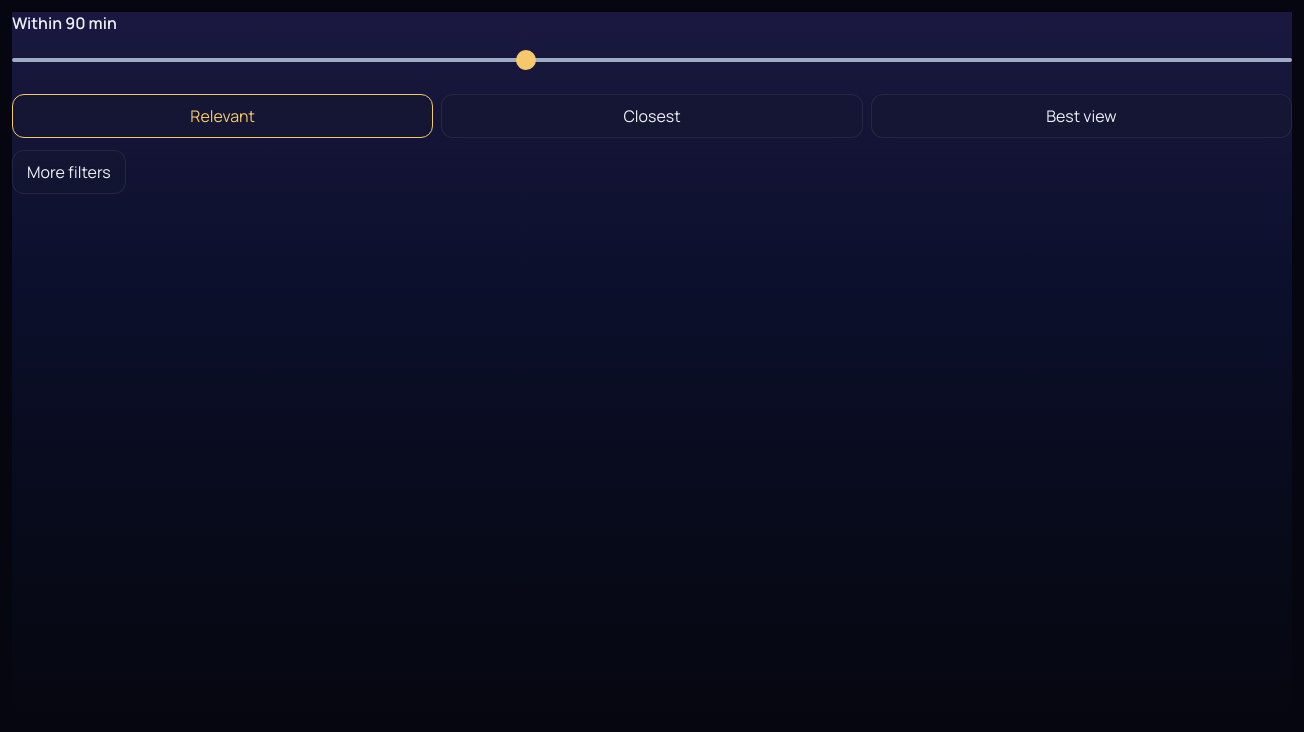
Test: Controls › outside se_mi More filters has only Likely open
Click the button "More filters". click: [69, 172]
box: [12,150,126,194]
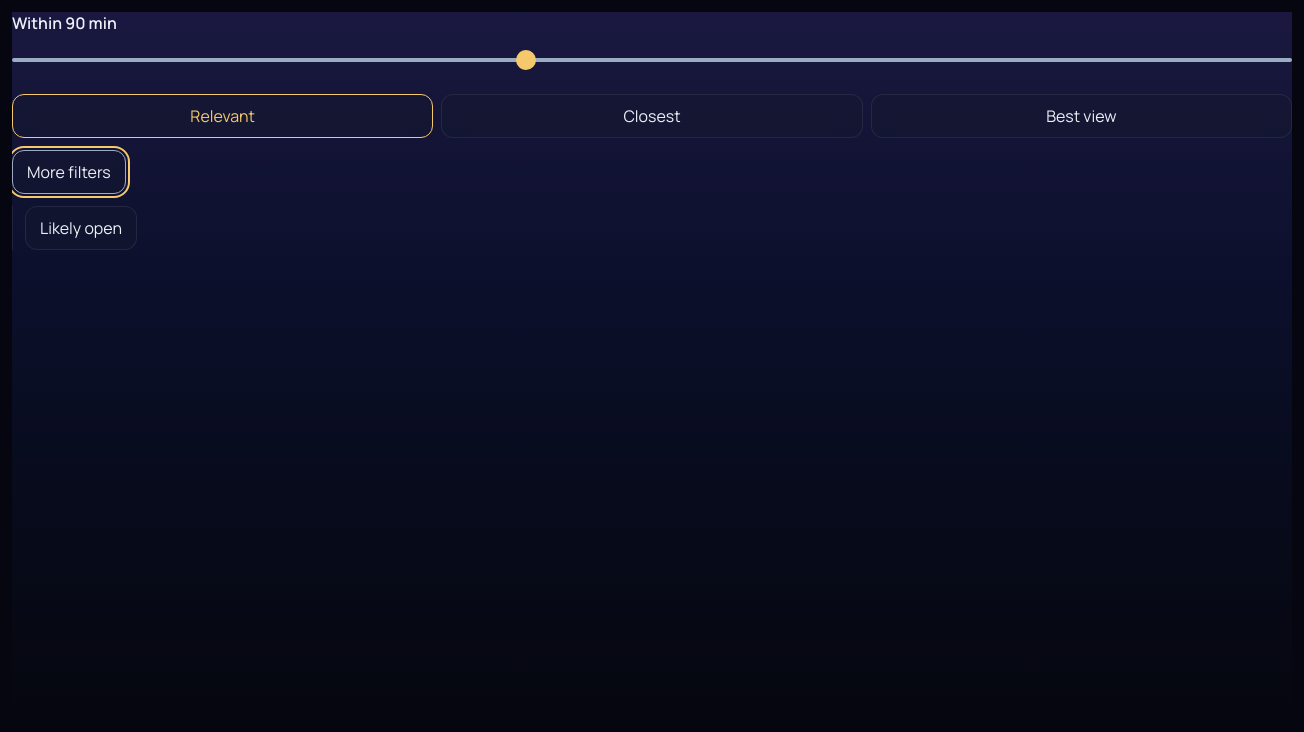
Expected: the switch labelled "Likely open" is shown, [25,206,137,250]
